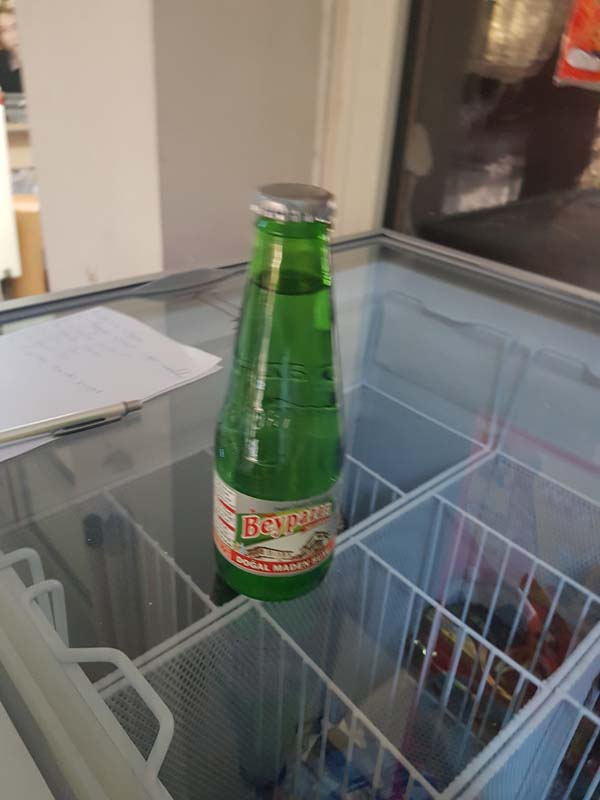beypazarimadensuyu: (206, 180, 355, 611)
